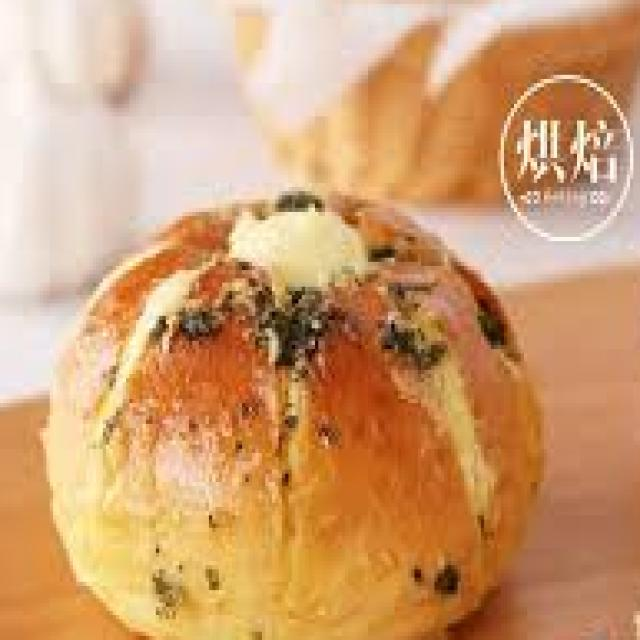inorganic: (29, 173, 567, 618)
